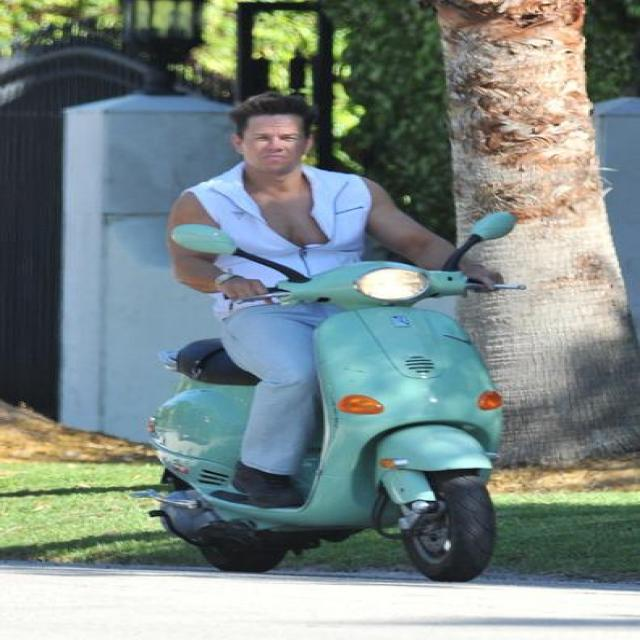Not Wearing Helmet: (186, 45, 372, 221)
